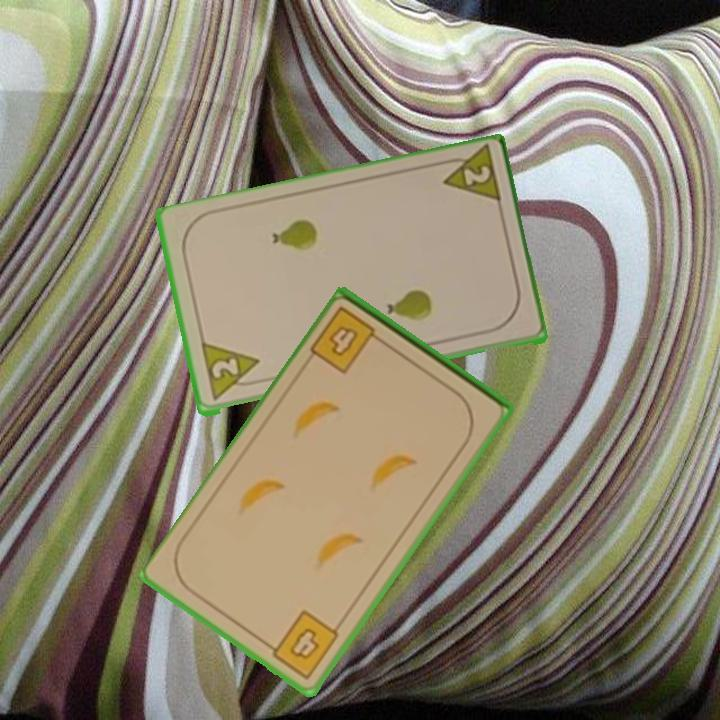2p: (433, 145, 504, 209), (207, 355, 241, 382)
4b: (261, 606, 343, 683), (307, 303, 389, 377)
